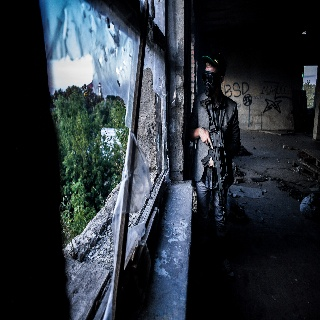rifle: (199, 97, 240, 225)
